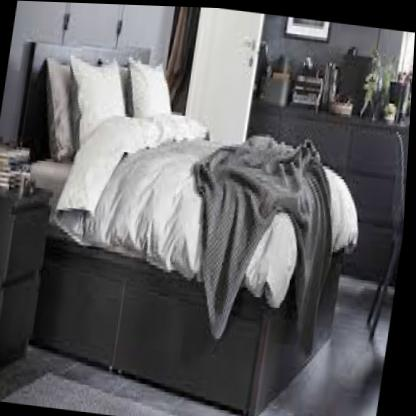Bed: (0, 27, 380, 416)
